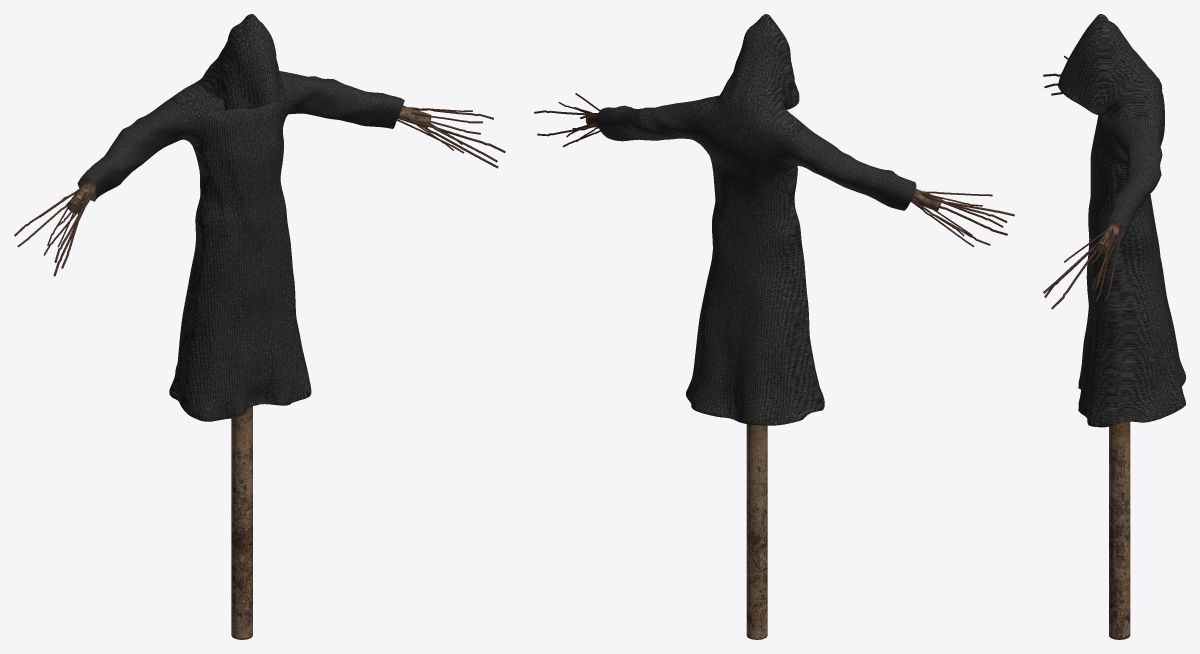
File: espantapajaros.glb
3 renders of one model, left to right at view 1: azimuth 30°, elevation 25°; view 2: azimuth 150°, elevation 25°; view 3: azimuth 270°, elevation 25°, orthographic. The views are drawn at different scales.
Parts seen in each view (by area): view 1: defaultMaterial_remesh_2__0; view 2: defaultMaterial_remesh_2__0; view 3: defaultMaterial_remesh_2__0.
Part boxes in pixels (left/top/right/bottom): defaultMaterial_remesh_2__0: left=14, top=14, right=505, bottom=639; defaultMaterial_remesh_2__0: left=534, top=14, right=1014, bottom=639; defaultMaterial_remesh_2__0: left=1043, top=14, right=1185, bottom=639.
Bounding box in the file's own units: 2.55 × 3.2 × 0.6664.
1 material, 1 textured.
